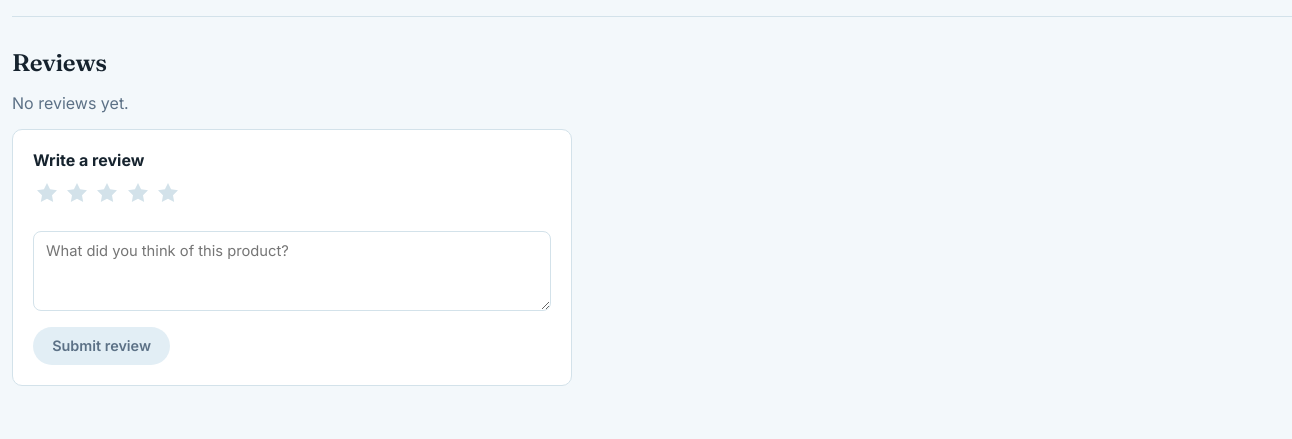
it: ReviewsSection › shows an error message when submitting fails
Expected: the text "Write a review" is shown, [33,150,144,170]
Step 1. Click the radio button named "3 stars" → (107, 194), box [94,179,121,209]
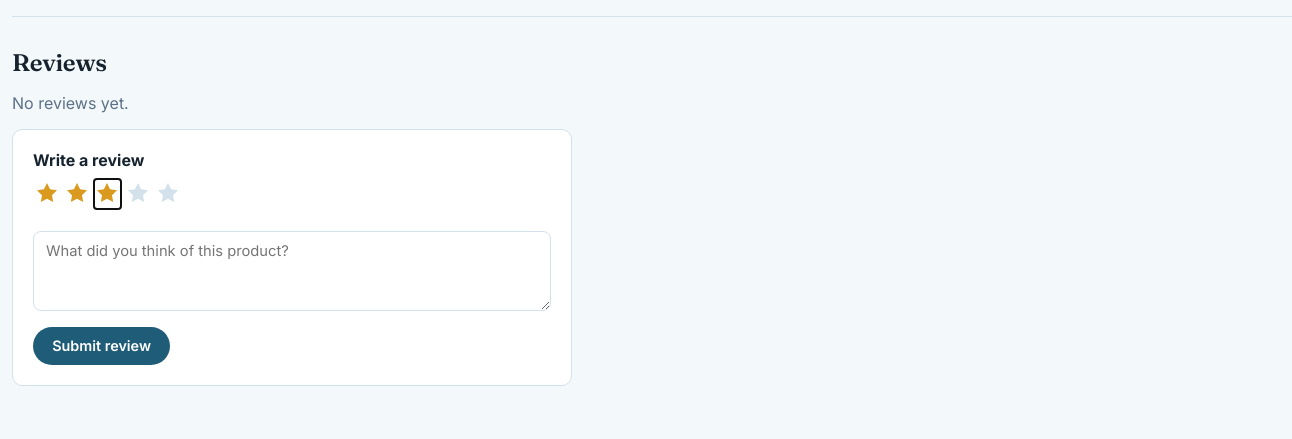
Step 2. Type "Test" into the text box with placeholder "What did you think of this product?" → (292, 271), box [33,231,551,311]
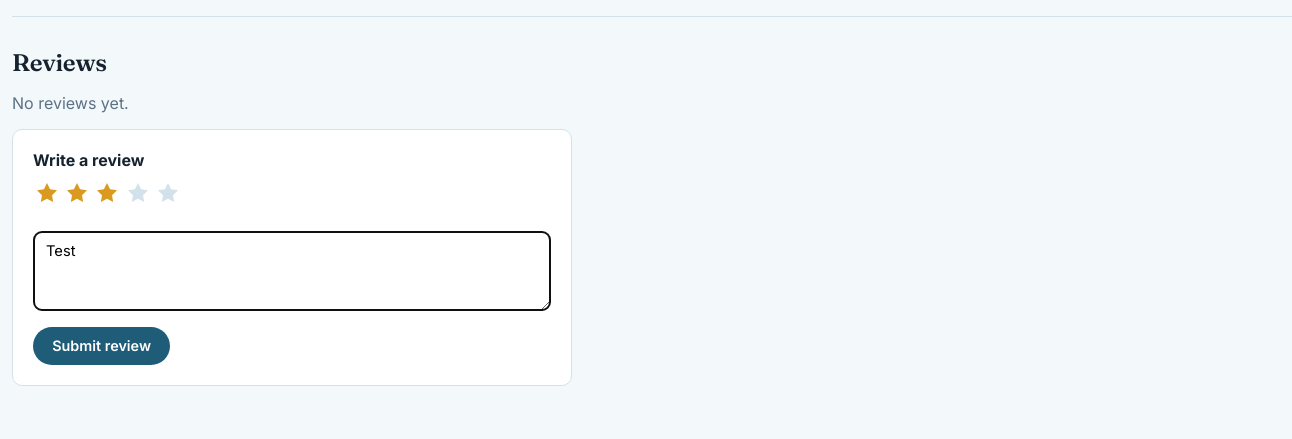
Step 3. Click the button "Submit review" → (102, 346), box [33,327,170,365]
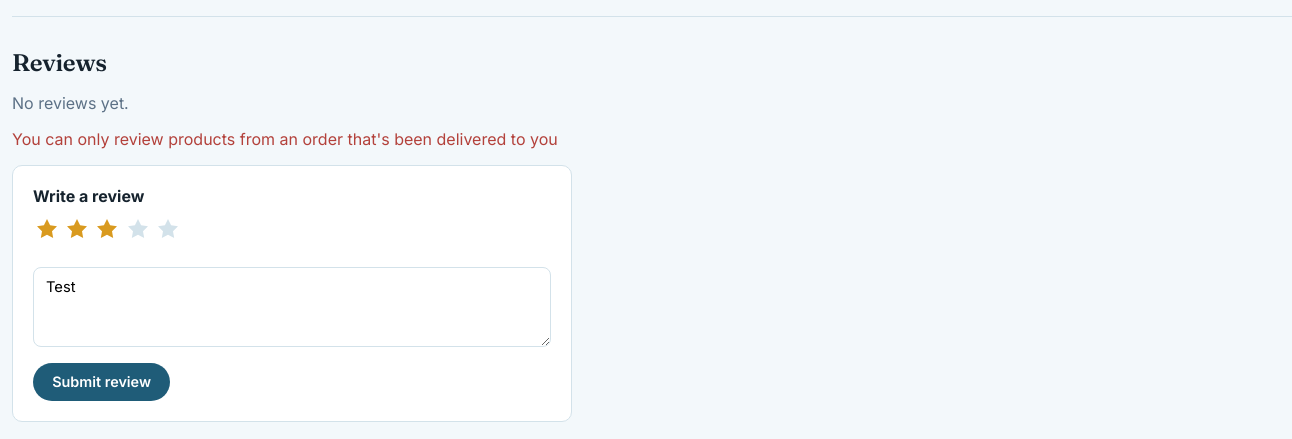
Result: the text "order that's been delivered" is shown at [12,129,558,149]
